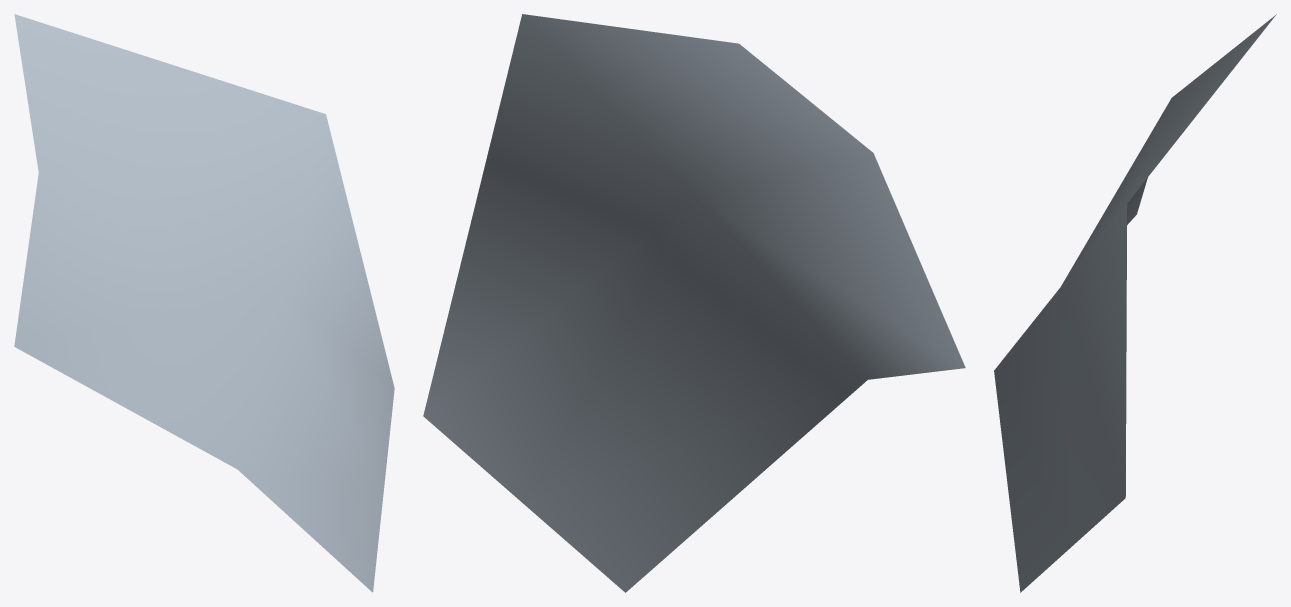
Rendered from anterior-sternoclavicular-ligament-r.glb.
3 views of the same model, side by side, from view 1: azimuth 30°, elevation 25°; view 2: azimuth 150°, elevation 25°; view 3: azimuth 270°, elevation 25° (orthographic). The views are drawn at different scales.
Visible parts, largest first — view 1: Anterior sternoclavicular ligament.r; view 2: Anterior sternoclavicular ligament.r; view 3: Anterior sternoclavicular ligament.r.
Boxes of the visible parts, x1,y1,x2,y2 form: Anterior sternoclavicular ligament.r: (14,14,394,592); Anterior sternoclavicular ligament.r: (423,14,965,592); Anterior sternoclavicular ligament.r: (994,14,1276,592).
Size of the model in its own units: 0.0161 by 0.0218 by 0.0116.
